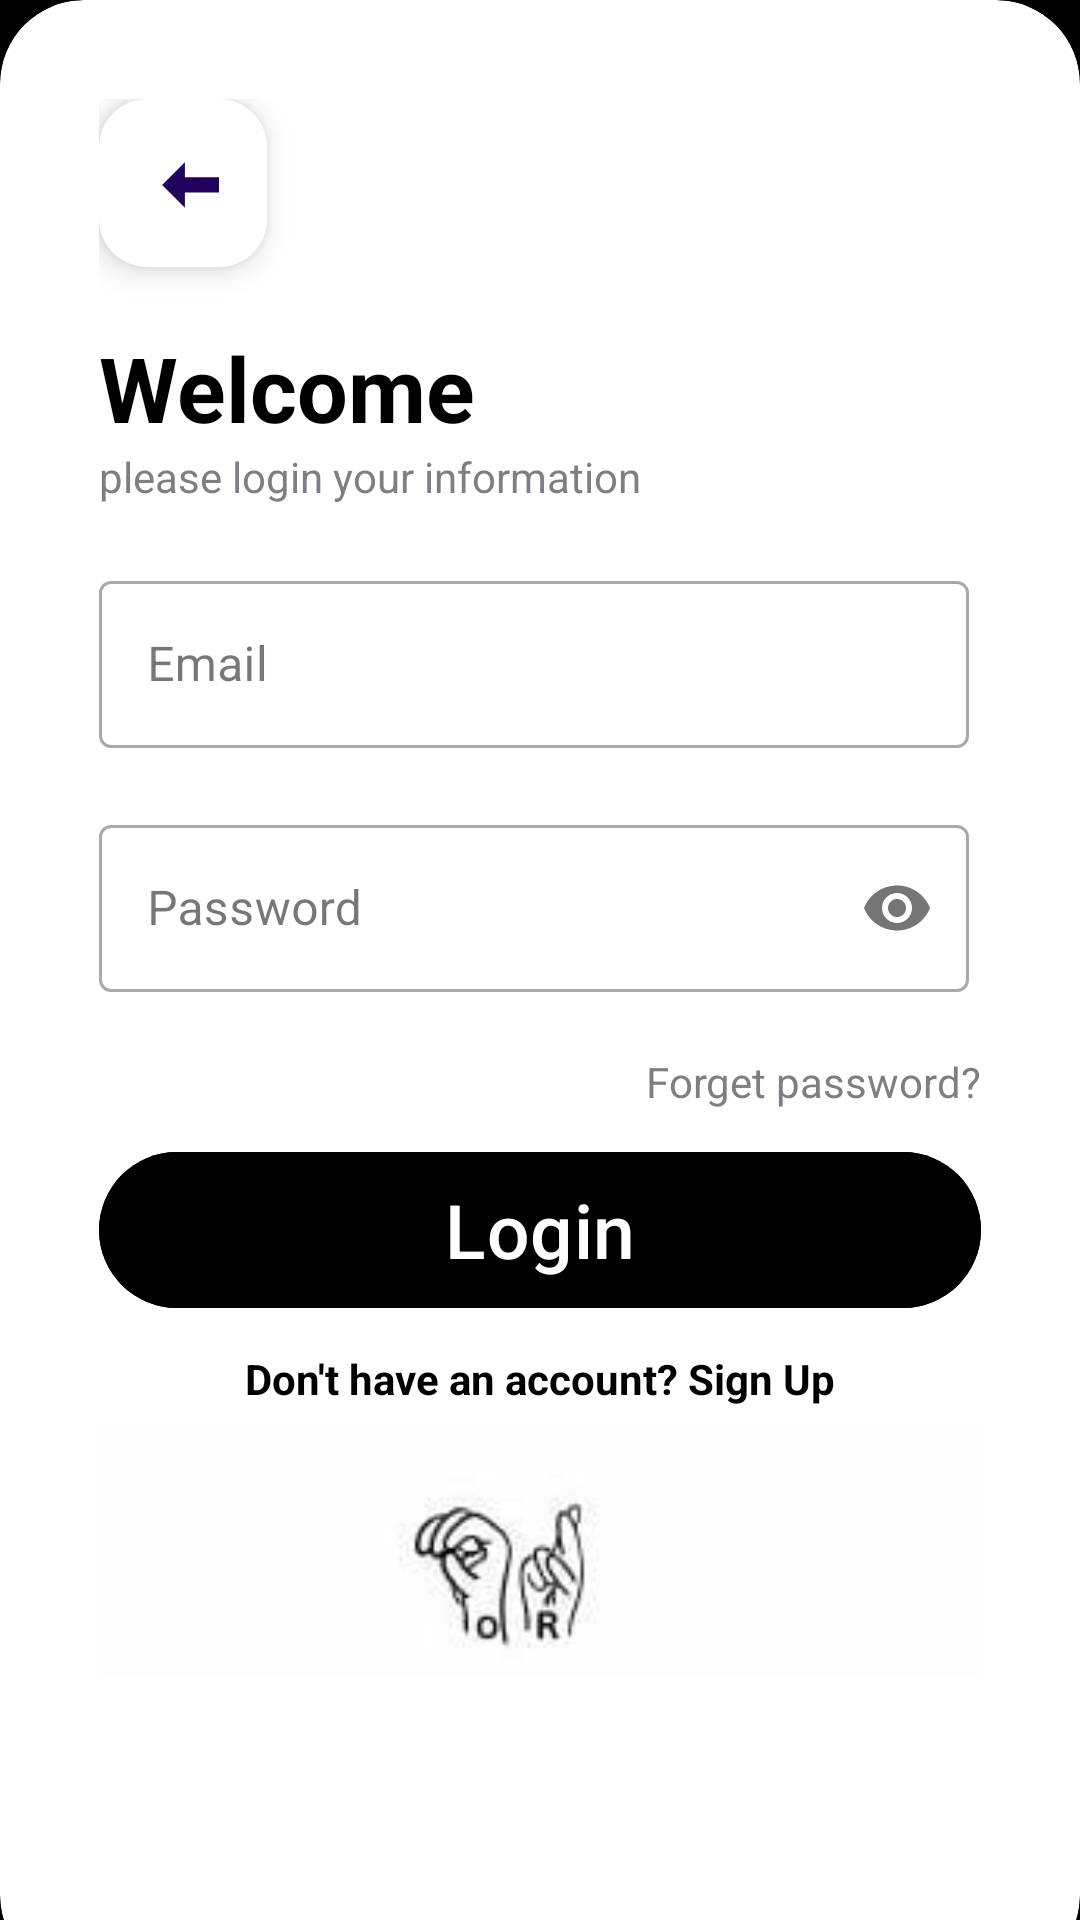

Icons on this 1080px×1920px Android screen, each with the point to tap as (x,y):
arrow back: (170,187)
